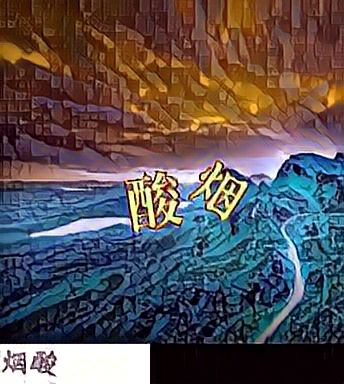CBE1: (122, 165, 185, 232)
D1CC: (188, 154, 251, 221)
